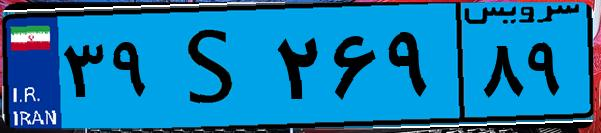2: (270, 28, 330, 110)
3: (57, 26, 110, 100)
6: (330, 28, 385, 110)
8: (475, 38, 525, 113)
9: (385, 28, 445, 110), (525, 38, 570, 115), (110, 28, 158, 98)
S: (158, 12, 270, 120)
